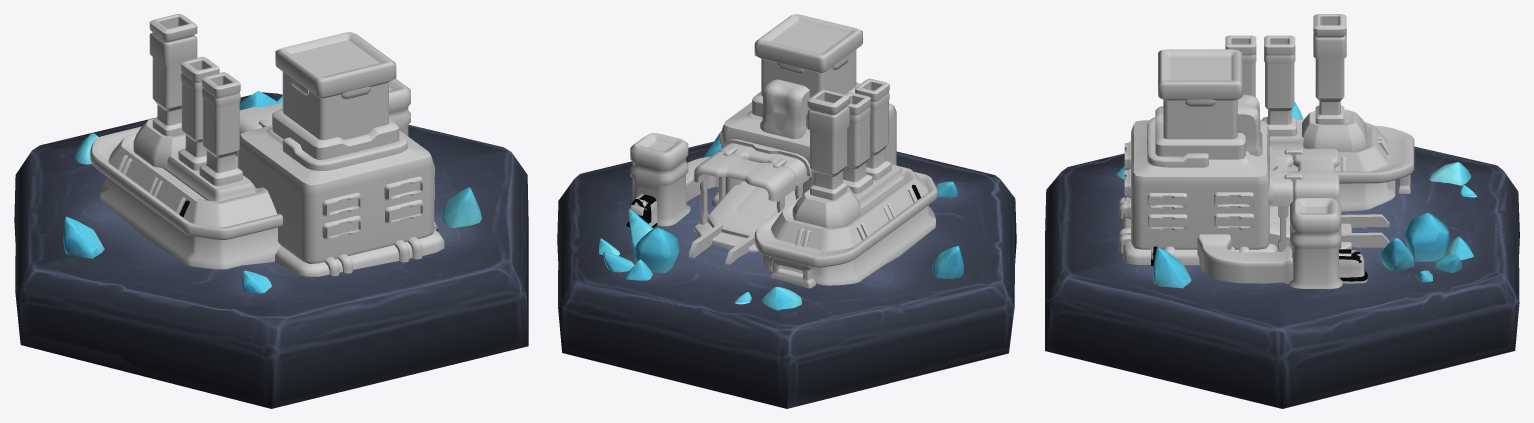
The model's file is CF_lvl2.fbx.
The picture shows the model from 3 angles, left to right: view 1: azimuth 30°, elevation 25°; view 2: azimuth 150°, elevation 25°; view 3: azimuth 270°, elevation 25°; orthographic projection. The views are drawn at different scales.
Parts seen in each view (by area): view 1: factory_level2; view 2: factory_level2; view 3: factory_level2.
Boxes of the visible parts, bbox=[...] form: factory_level2: bbox=[14, 14, 528, 408]; factory_level2: bbox=[557, 14, 1016, 408]; factory_level2: bbox=[1045, 14, 1519, 408].
Bounding box in the file's own units: 7.45 × 3.65 × 6.51.
